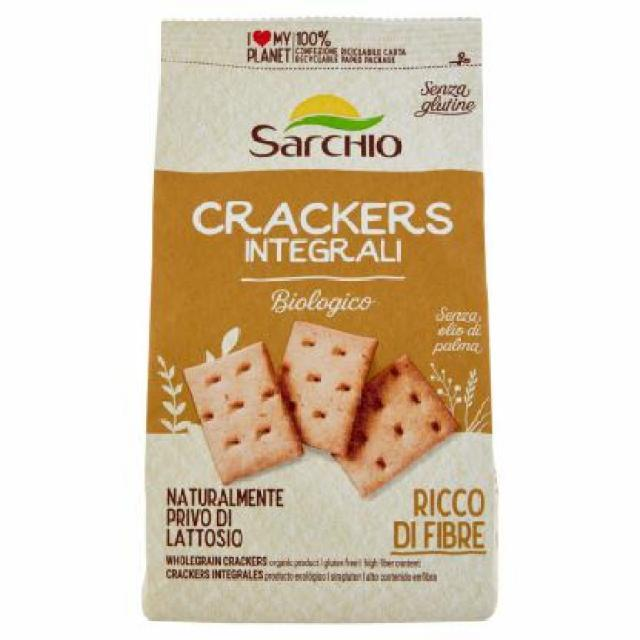Cracker: (129, 11, 509, 638)
